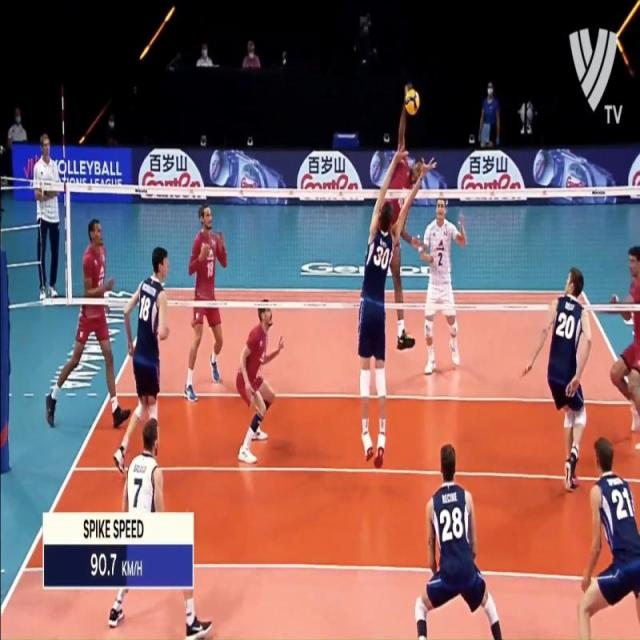volleyball: (404, 88, 421, 116)
